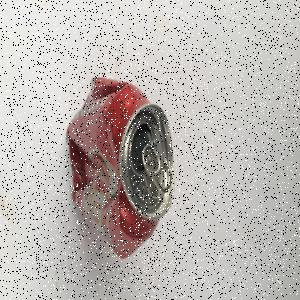Can: (66, 76, 176, 260)
